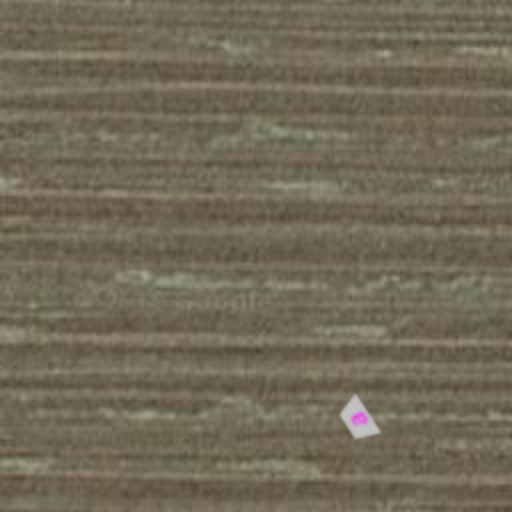trapezoid: (324, 386, 392, 454)
